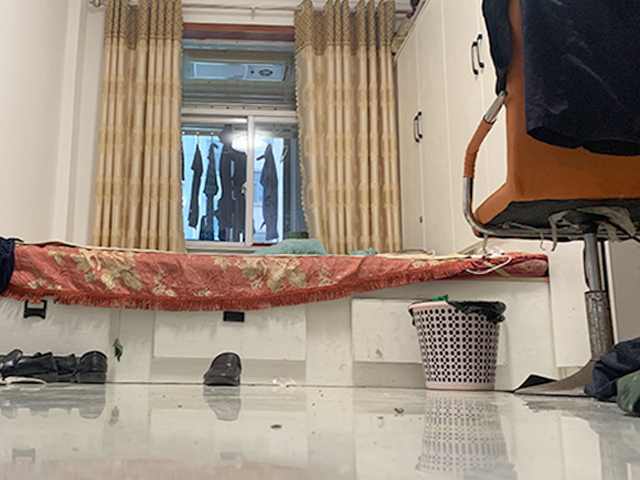bed: (1, 236, 556, 388)
curtain: (292, 2, 407, 252), (89, 1, 185, 252)
stool: (461, 1, 640, 399)
trashcan: (408, 300, 508, 392)
